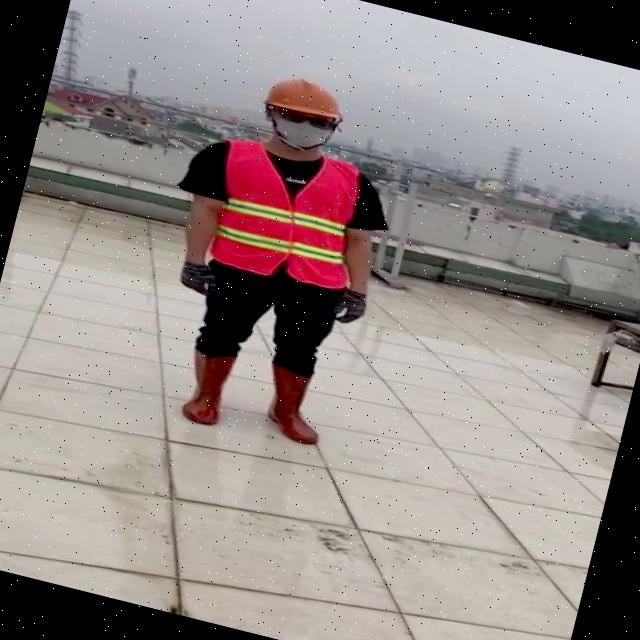boots: (252, 360, 339, 449), (176, 344, 238, 429)
